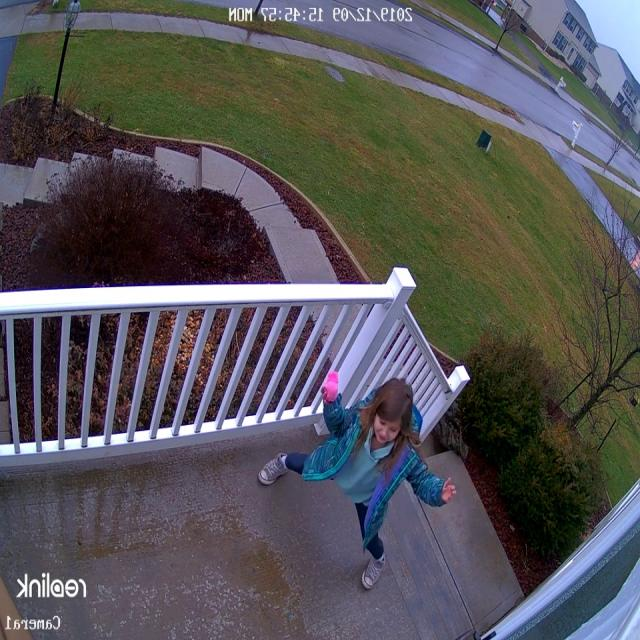child: (257, 377, 455, 593)
